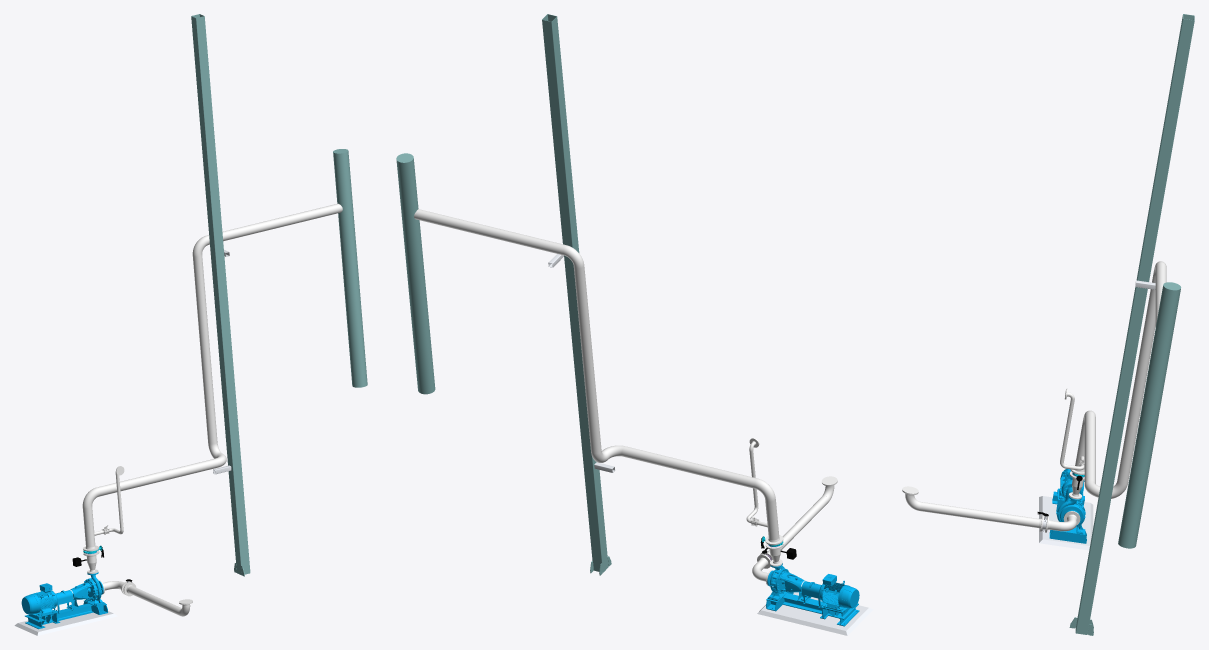
File: New_Siebtechnik_New_PUMP6.glb
The picture shows the model from 3 angles, left to right: view 1: azimuth 30°, elevation 25°; view 2: azimuth 150°, elevation 25°; view 3: azimuth 270°, elevation 25°; orthographic projection. The views are drawn at different scales.
Visible parts, largest first — view 1: BLUE_PROJECTS_BPC AREA.dwg, Insert (×2), ACPPPIPE (×3), Composite Part, 3D Solid, SURFACE; view 2: BLUE_PROJECTS_BPC AREA.dwg, Insert (×2), ACPPPIPE (×3), Composite Part, 3D Solid, SURFACE; view 3: BLUE_PROJECTS_BPC AREA.dwg, Insert (×2), ACPPPIPE (×4), Composite Part, SURFACE.
Boxes of the visible parts, x1,y1,x2,y2 form: BLUE_PROJECTS_BPC AREA.dwg: (191,14,250,576); Insert (×2): (14,149,367,635); ACPPPIPE (×3): (97,203,342,496); Composite Part: (25,599,107,629); 3D Solid: (21,583,57,615); SURFACE: (69,572,104,607); BLUE_PROJECTS_BPC AREA.dwg: (542,14,611,575); Insert (×2): (396,153,873,635); ACPPPIPE (×3): (414,209,757,488); Composite Part: (766,591,859,626); 3D Solid: (819,574,859,611); SURFACE: (767,563,807,601); BLUE_PROJECTS_BPC AREA.dwg: (1069,14,1194,635); Insert (×2): (1039,282,1181,550); ACPPPIPE (×4): (920,263,1166,527); Composite Part: (1049,488,1086,543); SURFACE: (1056,496,1085,532).
Size of the model in its own units: 7.49 by 10.26 by 4.41.
